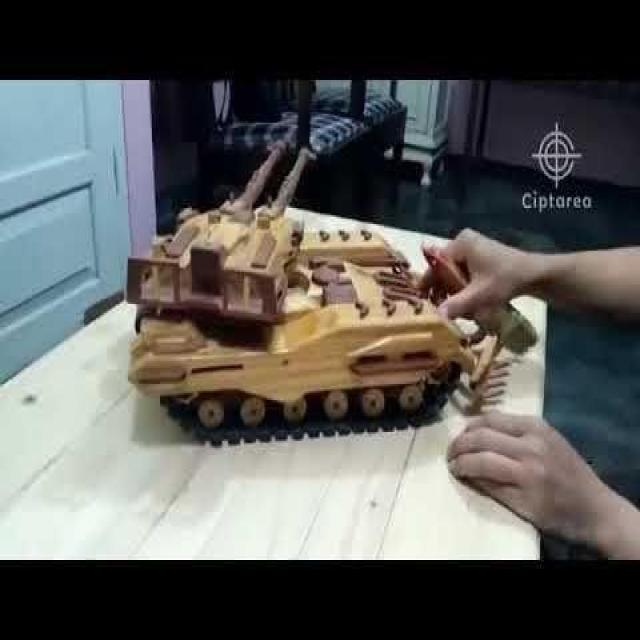Tanks: (121, 187, 462, 439)
